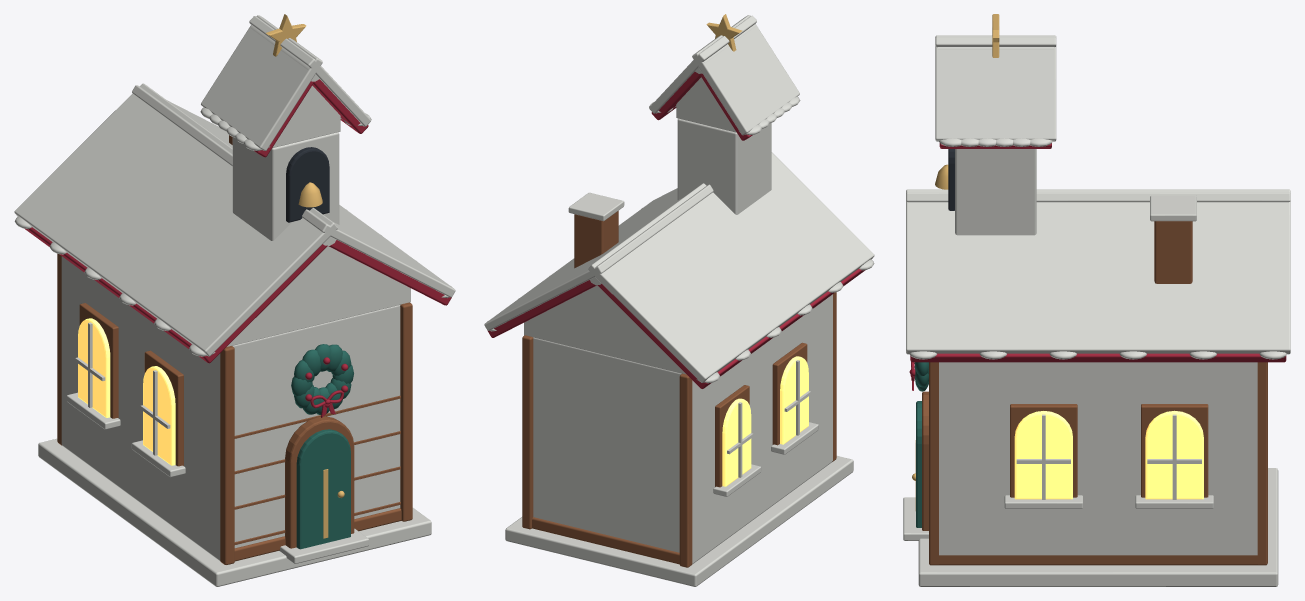
The model's file is christmas-storybook-winter-chapel-ee8795f0__18694.glb.
The picture shows the model from 3 angles, left to right: view 1: azimuth 30°, elevation 25°; view 2: azimuth 150°, elevation 25°; view 3: azimuth 270°, elevation 25°; orthographic projection. The views are drawn at different scales.
Visible parts, largest first — view 1: cream, oak, pine, berry, light, ink, brass; view 2: cream, oak, light, berry; view 3: cream, oak, light, berry, pine, brass.
Part boxes in pixels (bbox=[...]): cream: bbox=[14, 15, 455, 586]; oak: bbox=[57, 135, 412, 564]; pine: bbox=[291, 344, 353, 549]; berry: bbox=[24, 79, 451, 417]; light: bbox=[78, 318, 175, 465]; ink: bbox=[286, 147, 329, 222]; brass: bbox=[266, 14, 344, 538]; cream: bbox=[484, 15, 874, 586]; oak: bbox=[522, 211, 836, 567]; light: bbox=[722, 356, 808, 486]; berry: bbox=[487, 72, 865, 388]; cream: bbox=[903, 35, 1290, 586]; oak: bbox=[922, 221, 1267, 565]; light: bbox=[1014, 410, 1203, 499]; berry: bbox=[909, 143, 1286, 390]; pine: bbox=[914, 362, 928, 527]; brass: bbox=[912, 14, 999, 510].
Size of the model in its own units: 2.79 by 5.27 by 3.55.
